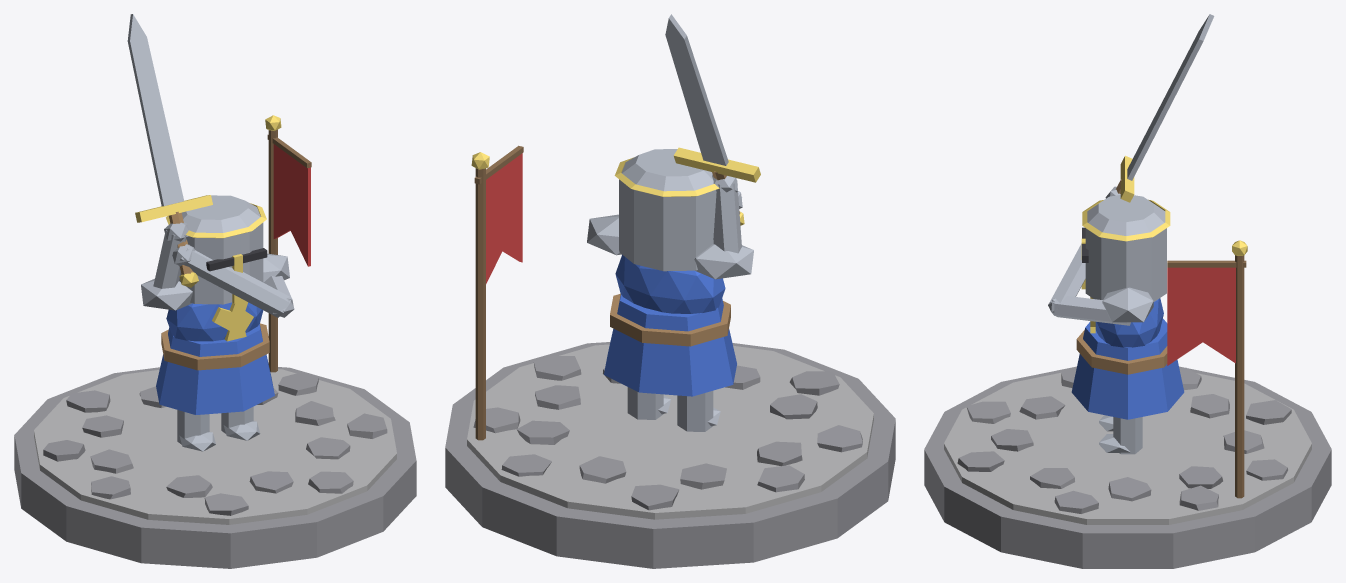
The model's file is knight.glb.
3 renders of one model, left to right at view 1: azimuth 30°, elevation 25°; view 2: azimuth 150°, elevation 25°; view 3: azimuth 270°, elevation 25°, orthographic. The views are drawn at different scales.
Visible parts, largest first — view 1: Cylinder.312, Cylinder.311, Cone.066, Slab.012, Slab.010, Cylinder.334, Cylinder.337, Icosphere.246, Cone.067, Cylinder.332, Cylinder.329, Icosphere.248 (+21 smaller); view 2: Cylinder.312, Cylinder.311, Cone.066, Cylinder.334, Icosphere.246, Slab.010, Slab.012, Cylinder.329, Cone.067, Cylinder.332, Cylinder.335, Icosphere.248 (+18 smaller); view 3: Cylinder.312, Cylinder.311, Cone.066, Slab.010, Cylinder.334, Cone.067, Cylinder.329, Slab.012, Icosphere.246, Icosphere.250, Cylinder.332, Cylinder.336 (+18 smaller).
Part boxes in pixels (x1,y1,x2,y2): Cylinder.312: (34, 369, 396, 524); Cylinder.311: (14, 367, 416, 568); Cone.066: (156, 324, 274, 414); Slab.012: (127, 14, 183, 206); Slab.010: (273, 144, 310, 266); Cylinder.334: (179, 222, 263, 304); Cylinder.337: (178, 245, 290, 317); Icosphere.246: (166, 302, 263, 341); Cone.067: (182, 195, 260, 232); Cylinder.332: (161, 323, 269, 370); Cylinder.329: (268, 129, 277, 372); Icosphere.248: (141, 278, 192, 310); Cylinder.312: (467, 344, 873, 519); Cylinder.311: (445, 342, 895, 568); Cone.066: (604, 294, 736, 396); Cylinder.334: (619, 179, 716, 271); Icosphere.246: (615, 254, 725, 313); Slab.010: (486, 153, 522, 283); Slab.012: (665, 14, 728, 165); Cylinder.329: (475, 168, 485, 440); Cone.067: (621, 149, 713, 191); Cylinder.332: (610, 293, 730, 346); Cylinder.335: (713, 180, 741, 253); Icosphere.248: (694, 244, 753, 279); Cylinder.312: (944, 373, 1311, 524); Cylinder.311: (924, 366, 1331, 568); Cone.066: (1071, 318, 1184, 419); Slab.010: (1167, 267, 1235, 365); Cylinder.334: (1085, 228, 1166, 301); Cone.067: (1087, 195, 1165, 235); Cylinder.329: (1235, 255, 1244, 498); Slab.012: (1127, 14, 1214, 180); Icosphere.246: (1095, 298, 1163, 347); Icosphere.250: (1102, 287, 1153, 322); Cylinder.332: (1076, 330, 1167, 374); Cylinder.336: (1054, 296, 1130, 325).
Bounding box in the file's own units: 3.02 × 3.78 × 3.1.
